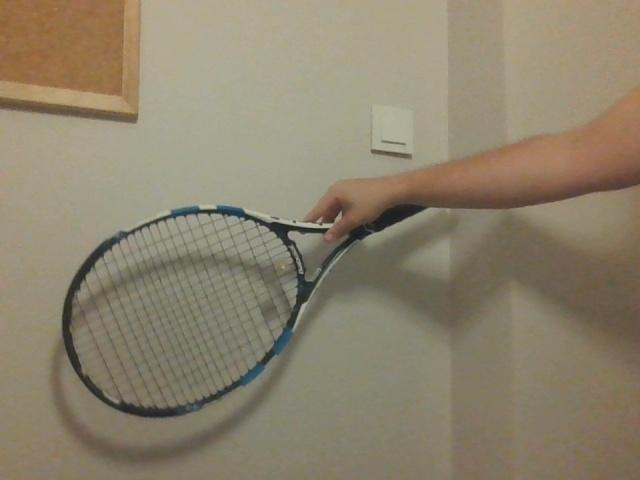Tennis-Racket: (61, 158, 428, 417)
